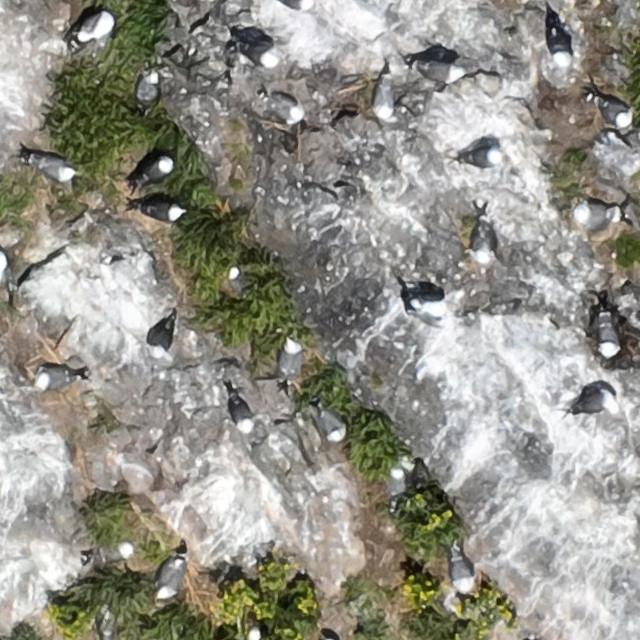umineko: (413, 292, 451, 332), (244, 44, 282, 74), (571, 206, 621, 228), (415, 63, 464, 83), (376, 72, 396, 121), (139, 69, 162, 111), (79, 12, 112, 41), (158, 561, 183, 598), (267, 96, 302, 122), (472, 222, 493, 265), (599, 99, 631, 127), (572, 393, 612, 414), (38, 158, 74, 181), (450, 554, 471, 593), (320, 408, 344, 441), (596, 318, 616, 357), (458, 149, 499, 168), (282, 342, 303, 379), (143, 158, 174, 182), (231, 398, 251, 431), (38, 369, 72, 388), (152, 324, 172, 356), (146, 202, 181, 220), (100, 542, 132, 560), (390, 466, 406, 500), (554, 30, 570, 64), (228, 266, 242, 292), (100, 612, 113, 639), (277, 0, 310, 9), (246, 626, 262, 640)
